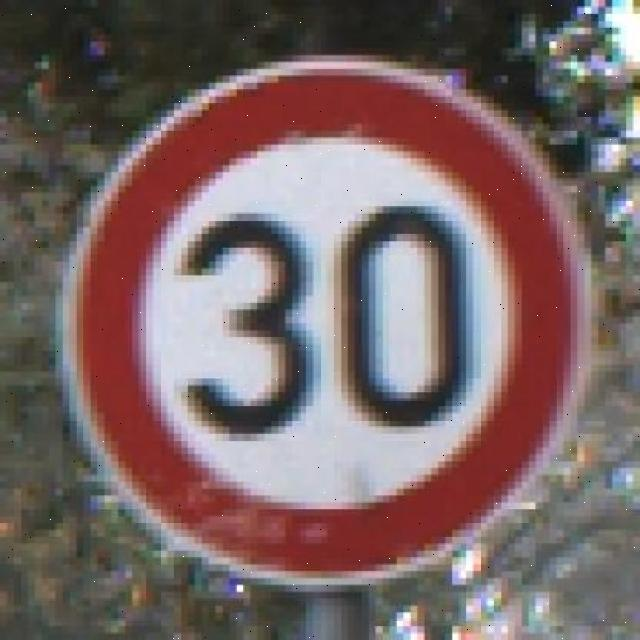speed limit 30: (56, 57, 588, 587)
